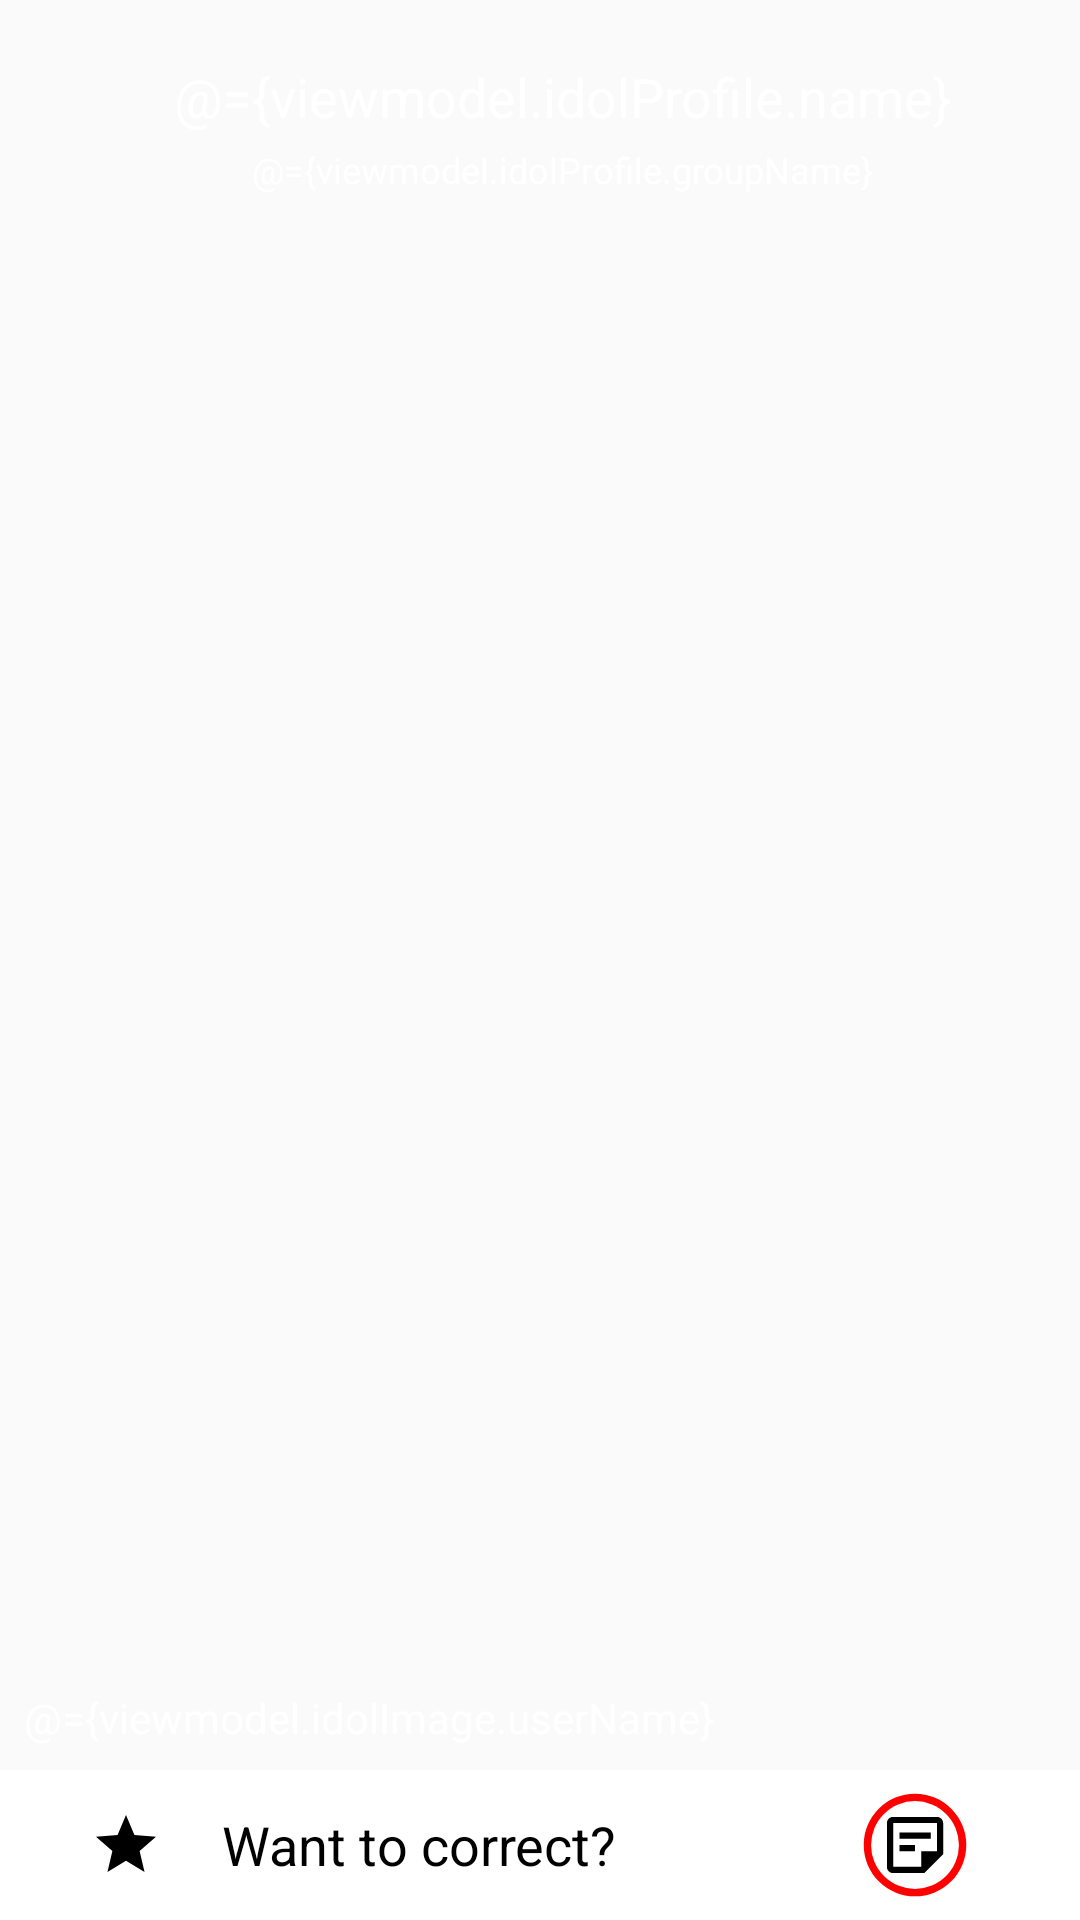

Icon bounding boxes for this 1080 x 1920 phone screenshot, format bbox=[x1, y1, x2, y2]:
star: bbox=[96, 1815, 156, 1872]
sticky note circle: bbox=[863, 1793, 967, 1897]
